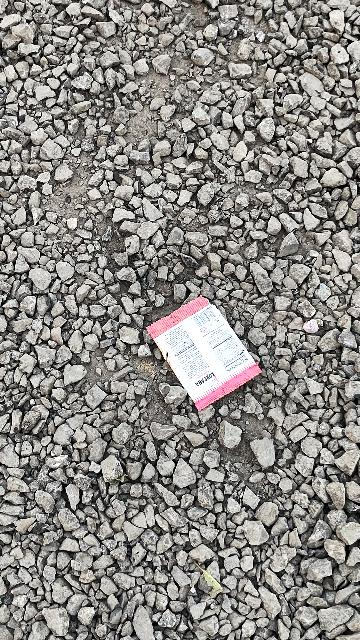packet: (138, 283, 265, 419)
